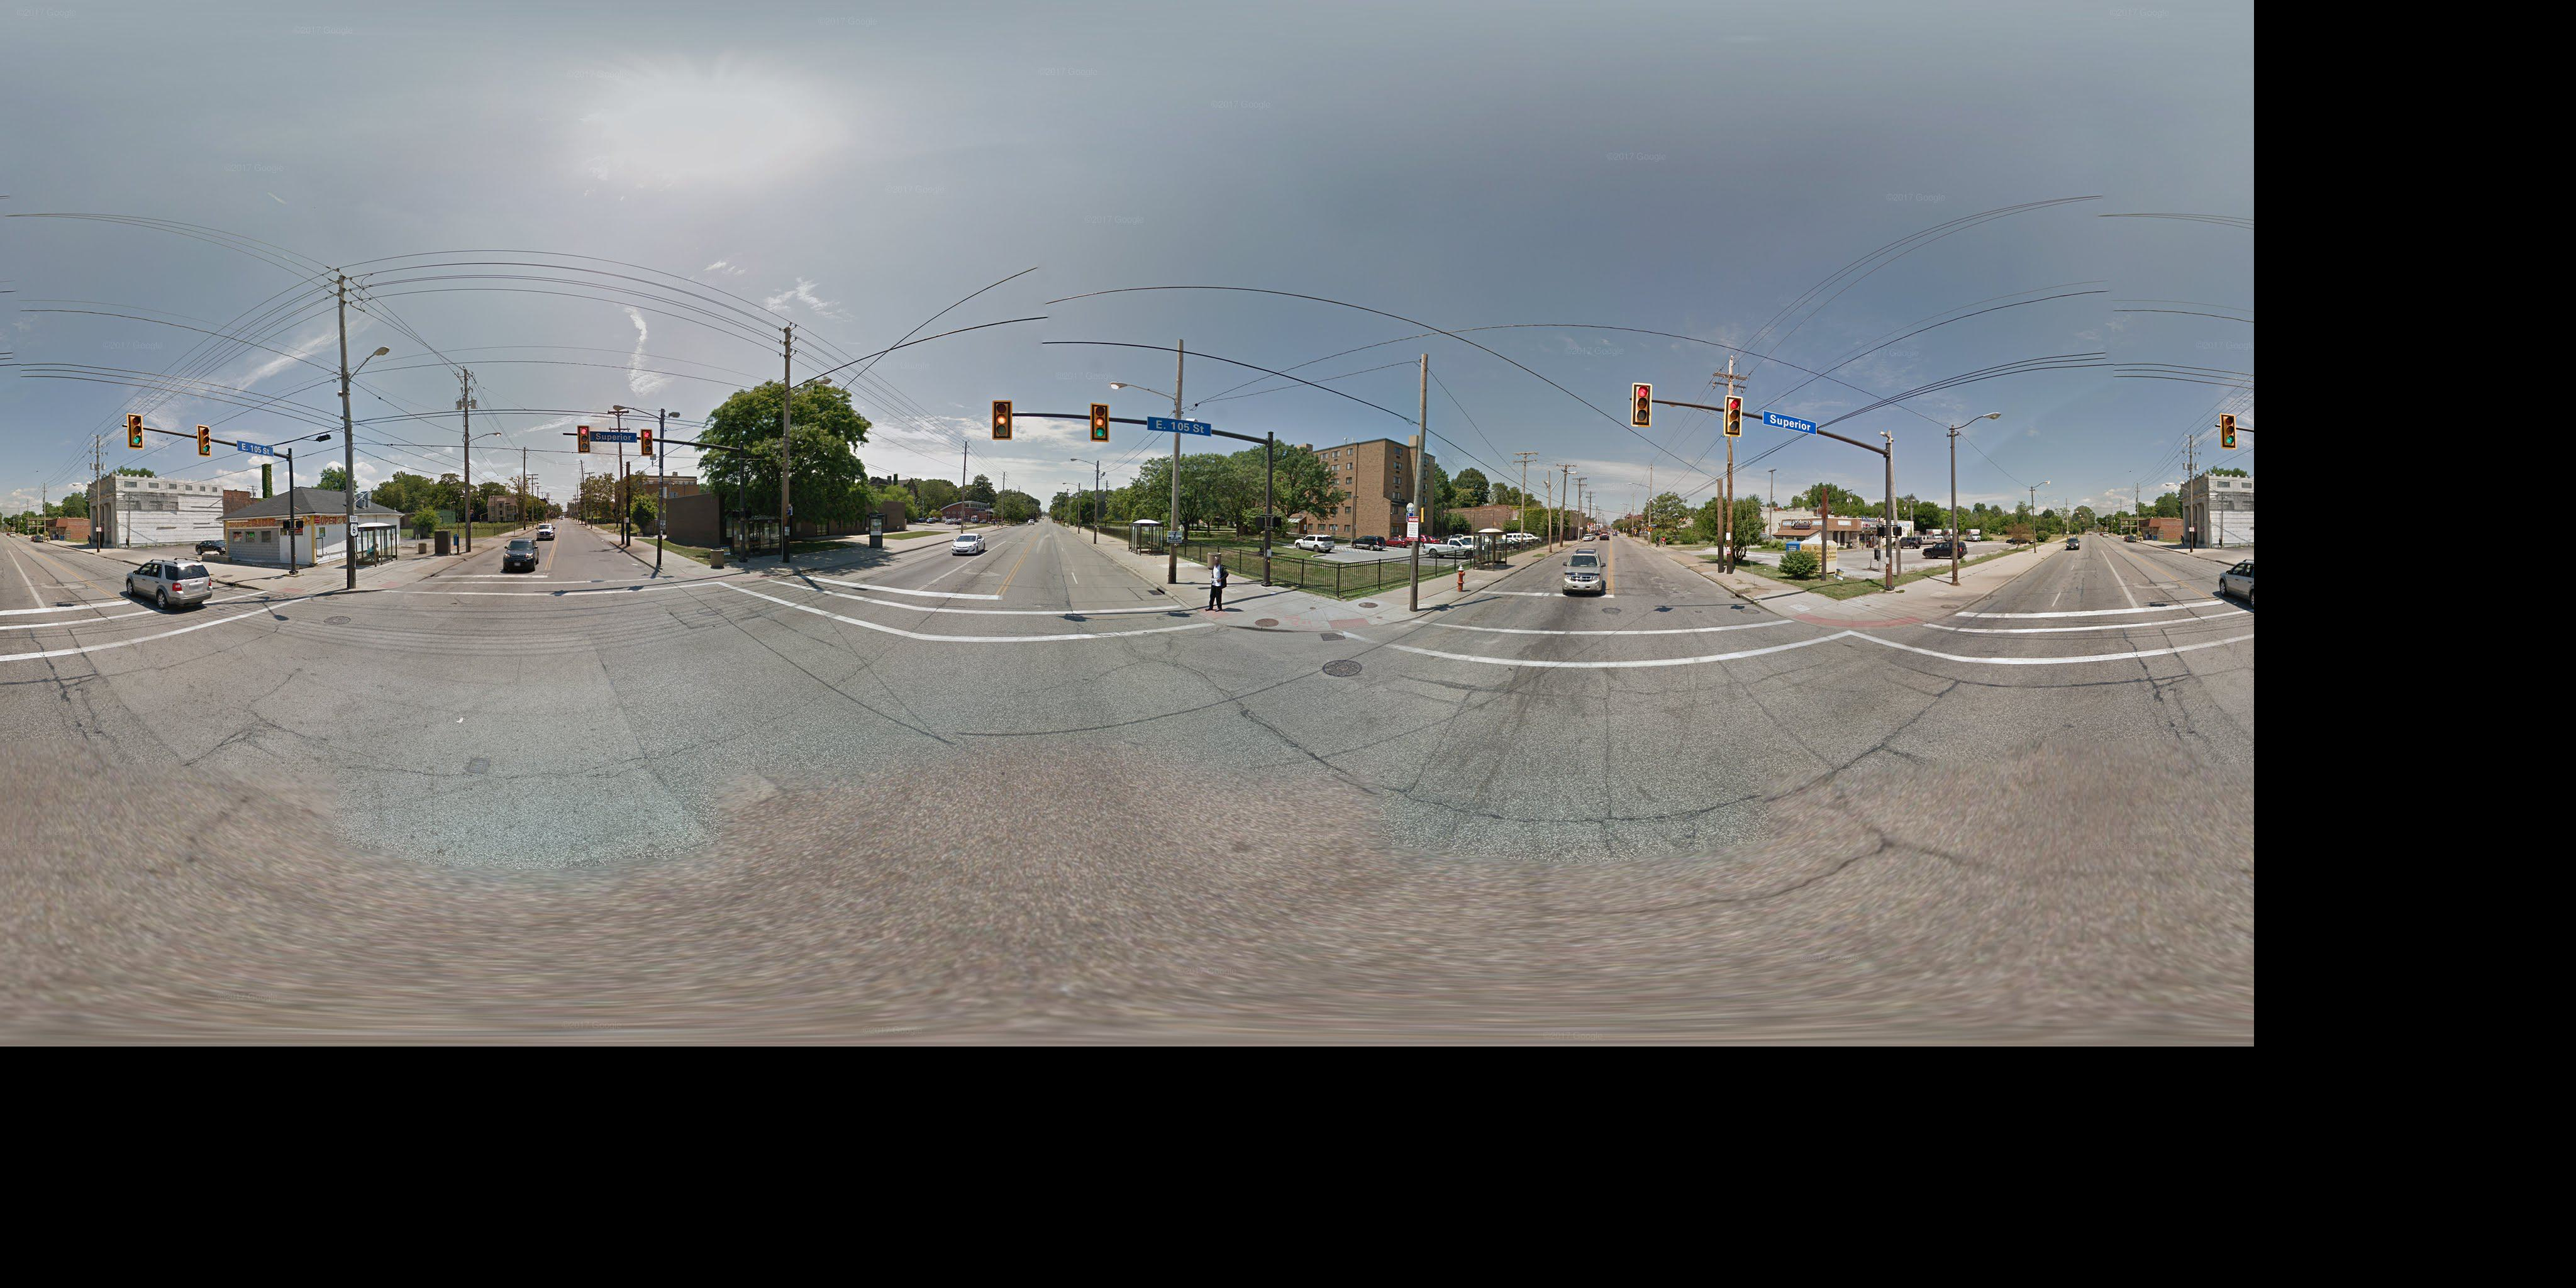Curb Ramp: (1776, 600, 1929, 647), (654, 562, 772, 595), (1313, 605, 1380, 636), (363, 567, 419, 598), (1183, 601, 1230, 624), (274, 577, 315, 598)
